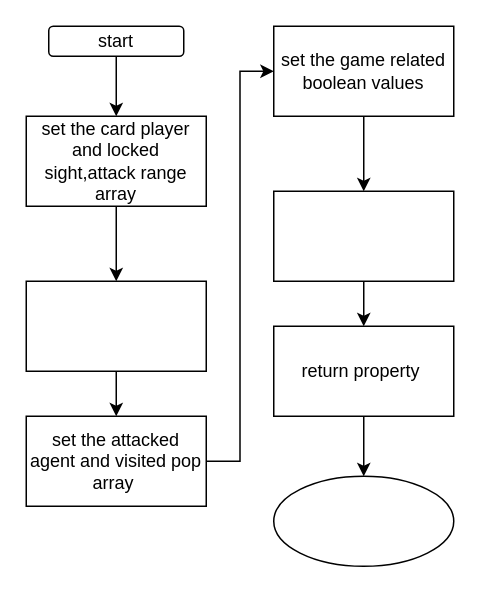
The diagram is 480 pixels wide and 593 high, and some of its shapes have lost their labels. The centre of each missing label's shape, as x and y in pixels:
end: the point at 363,520
set the attacked stun and freeze boolean value: the point at 115,325
set the target of card: the point at 363,235
